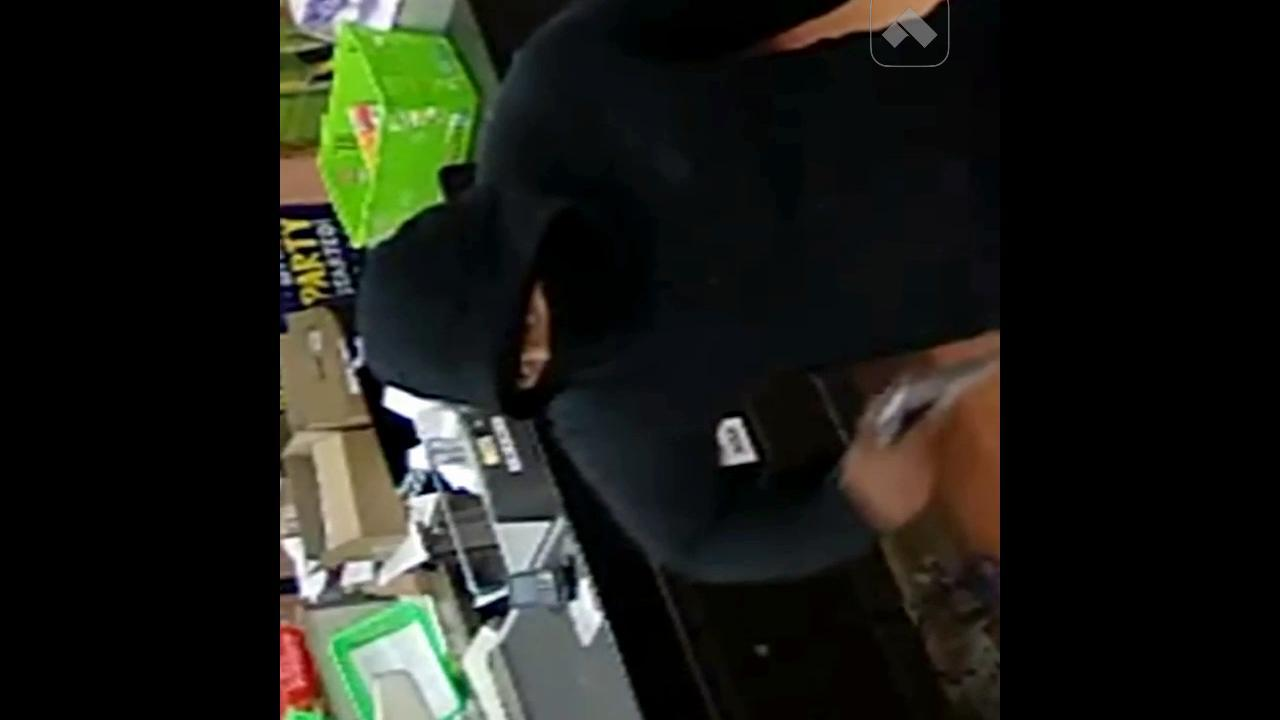gun: (847, 340, 1000, 464)
